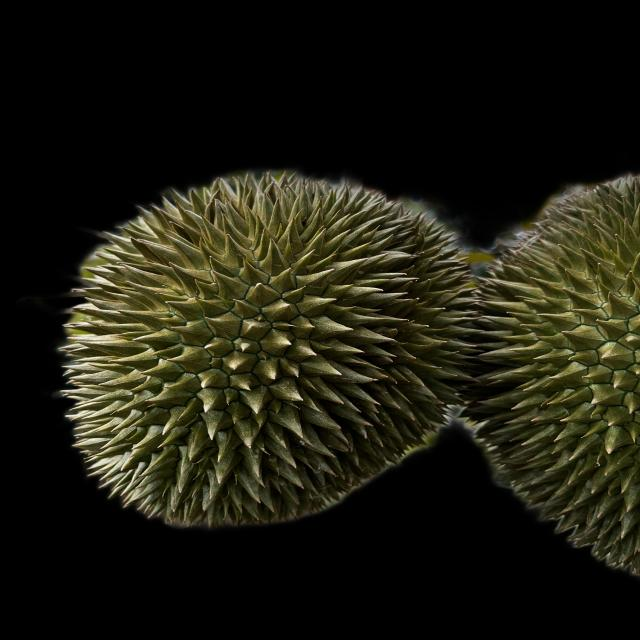immature: (57, 154, 470, 524)
